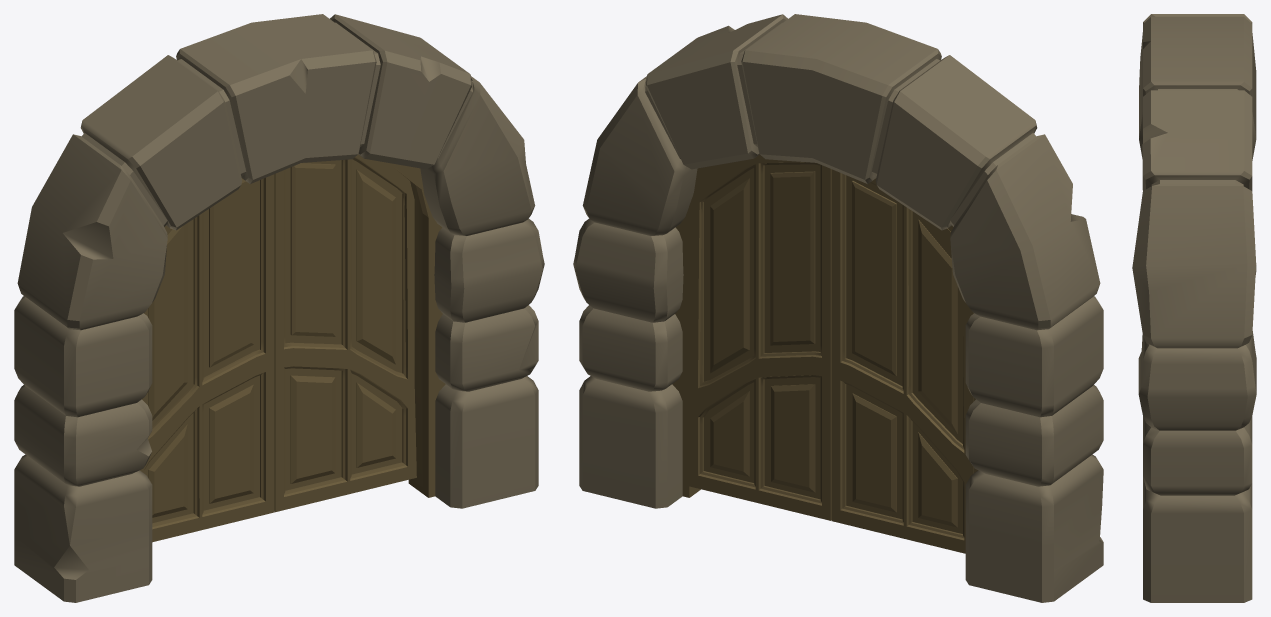
File: double_door.fbx
3 views of the same model, side by side, from view 1: azimuth 30°, elevation 25°; view 2: azimuth 150°, elevation 25°; view 3: azimuth 270°, elevation 25° (orthographic). The views are drawn at different scales.
Parts seen in each view (by area): view 1: rock_rim, pPlane4, pPlane5, door_copy; view 2: rock_rim, pPlane4, pPlane5, door_copy; view 3: rock_rim.
Part boxes in pixels (<box>): rock_rim: <box>14,14,544,602</box>; pPlane4: <box>274,154,416,512</box>; pPlane5: <box>144,174,274,542</box>; door_copy: <box>140,162,445,497</box>; rock_rim: <box>573,14,1103,602</box>; pPlane4: <box>689,154,831,520</box>; pPlane5: <box>831,169,973,553</box>; door_copy: <box>672,163,977,497</box>; rock_rim: <box>1132,14,1256,602</box>.
Bounding box in the file's own units: 4.76 × 4.57 × 1.14.
